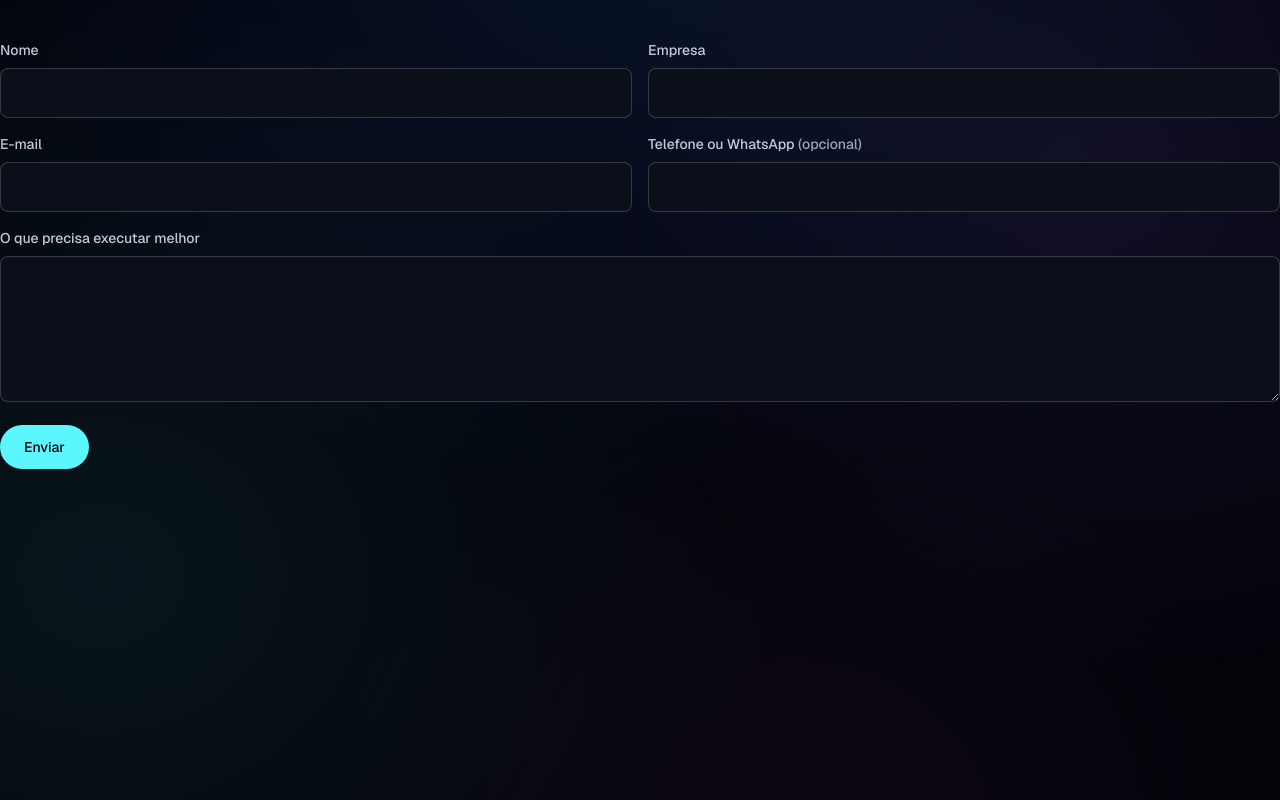
it: formulário de contato › envia quando os dados são válidos
Type "Jonas" into the field labelled "Nome" at [316, 93], box top-left (0, 68), bottom-right (632, 118)
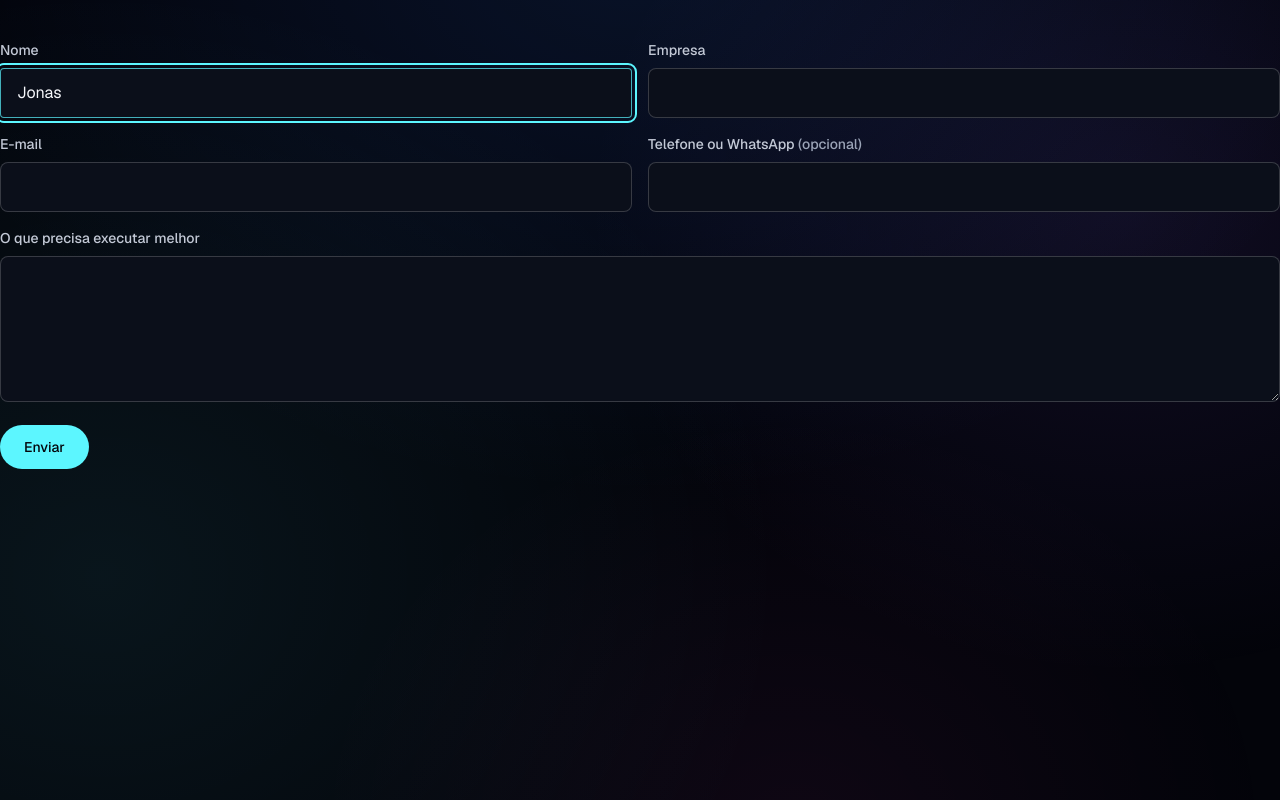
Type "Empresa" into the field labelled "Empresa" at [964, 93], box top-left (648, 68), bottom-right (1279, 118)
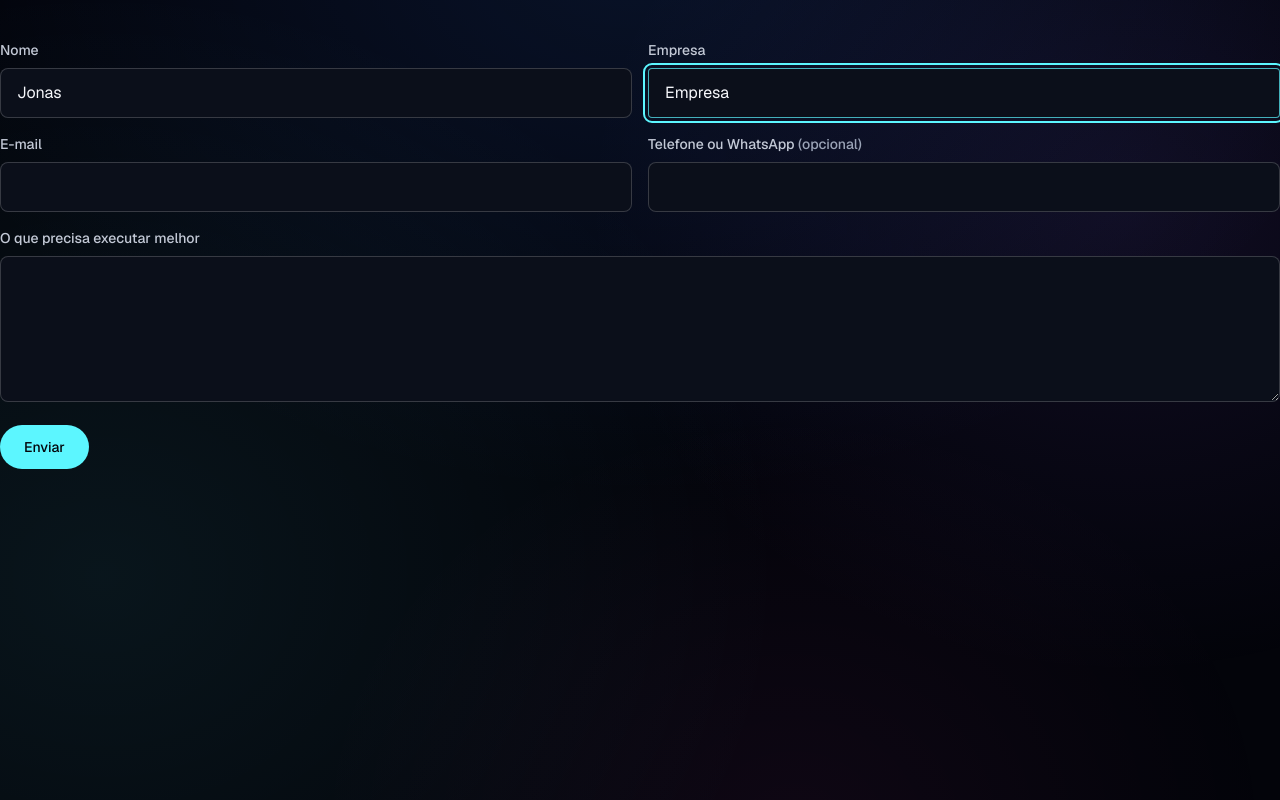
Type "jonas@empresa.test" into the field labelled "E-mail" at [316, 187], box top-left (0, 162), bottom-right (632, 212)
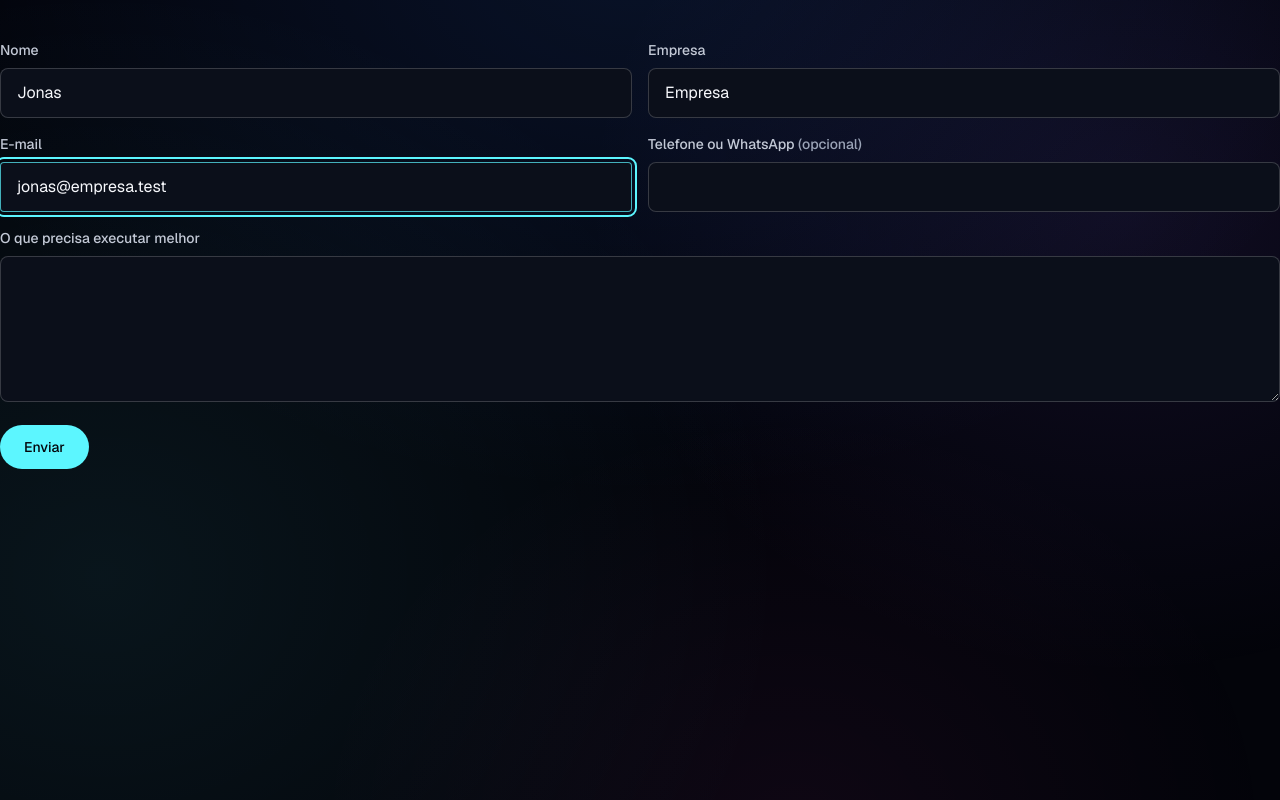
Type "Precisamos automatizar a triagem de atendimento no WhatsApp." into the text box labelled "O que precisa executar melhor" at [640, 329], box top-left (0, 256), bottom-right (1279, 402)
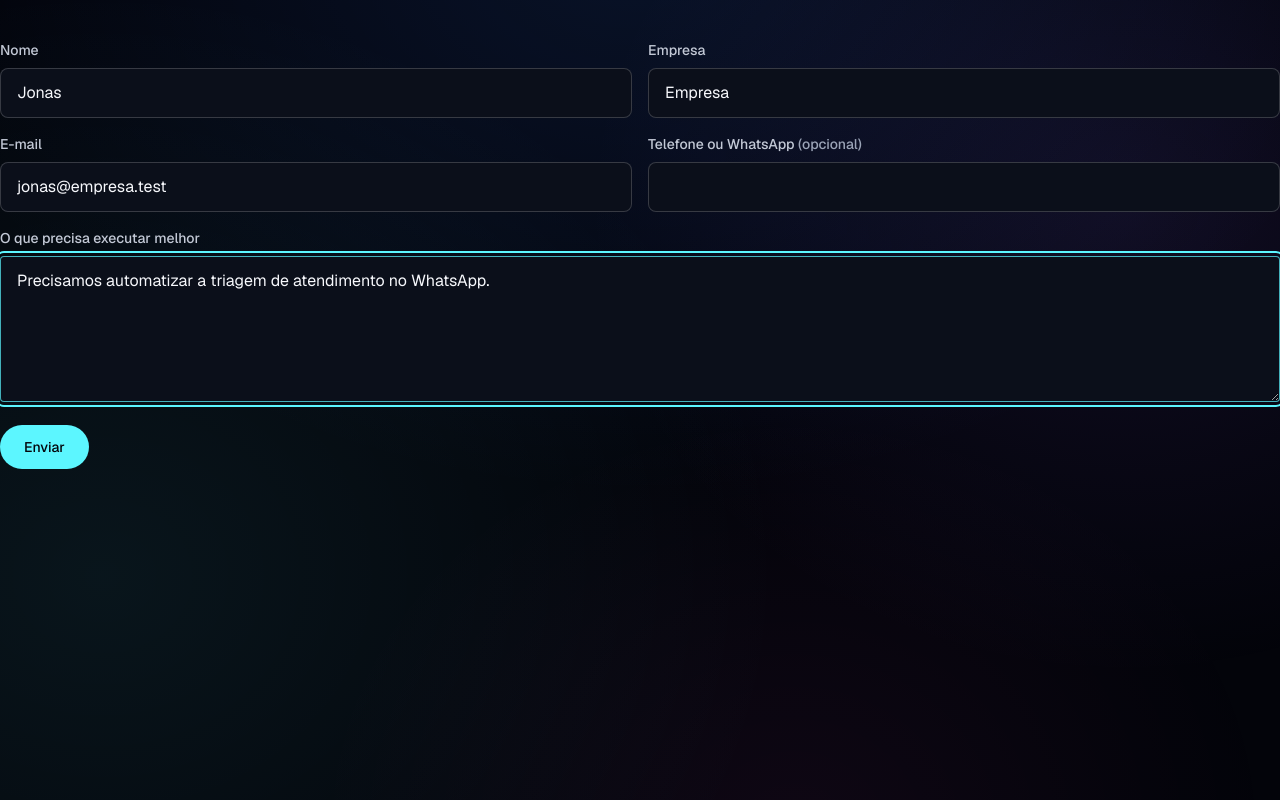
Click the button "Enviar" at [44, 447], box top-left (0, 425), bottom-right (89, 469)
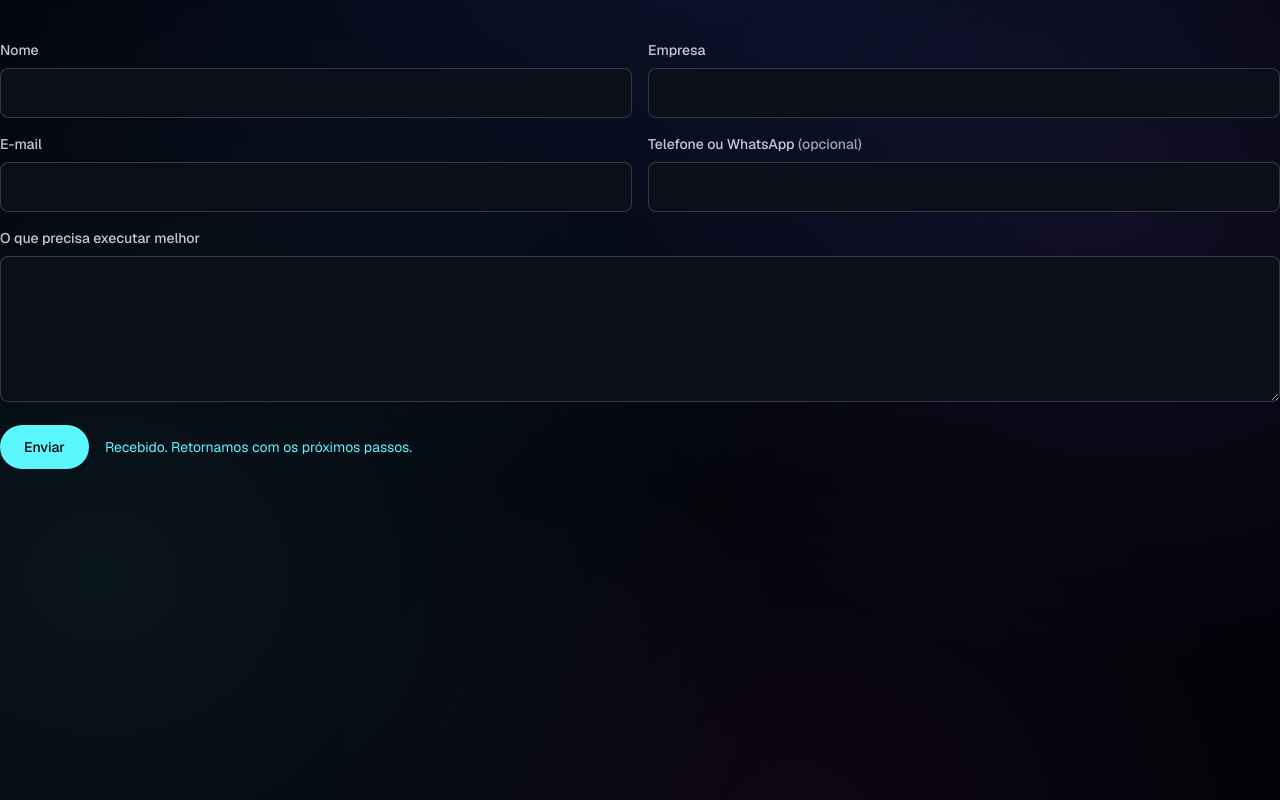
Expected: the text "Recebido. Retornamos com os próximos passos." is shown, top-left (105, 437), bottom-right (412, 457)
